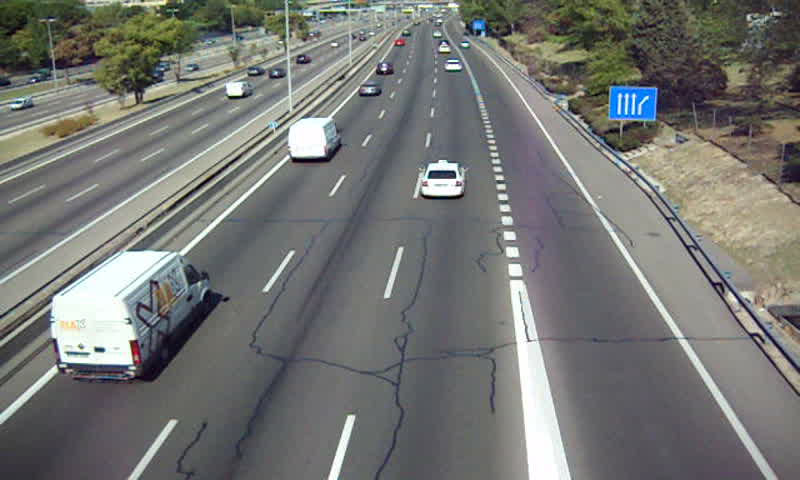car: (420, 162, 467, 198), (357, 82, 380, 99), (376, 60, 394, 77), (443, 59, 463, 73)
van: (49, 252, 208, 381), (287, 117, 341, 161)
